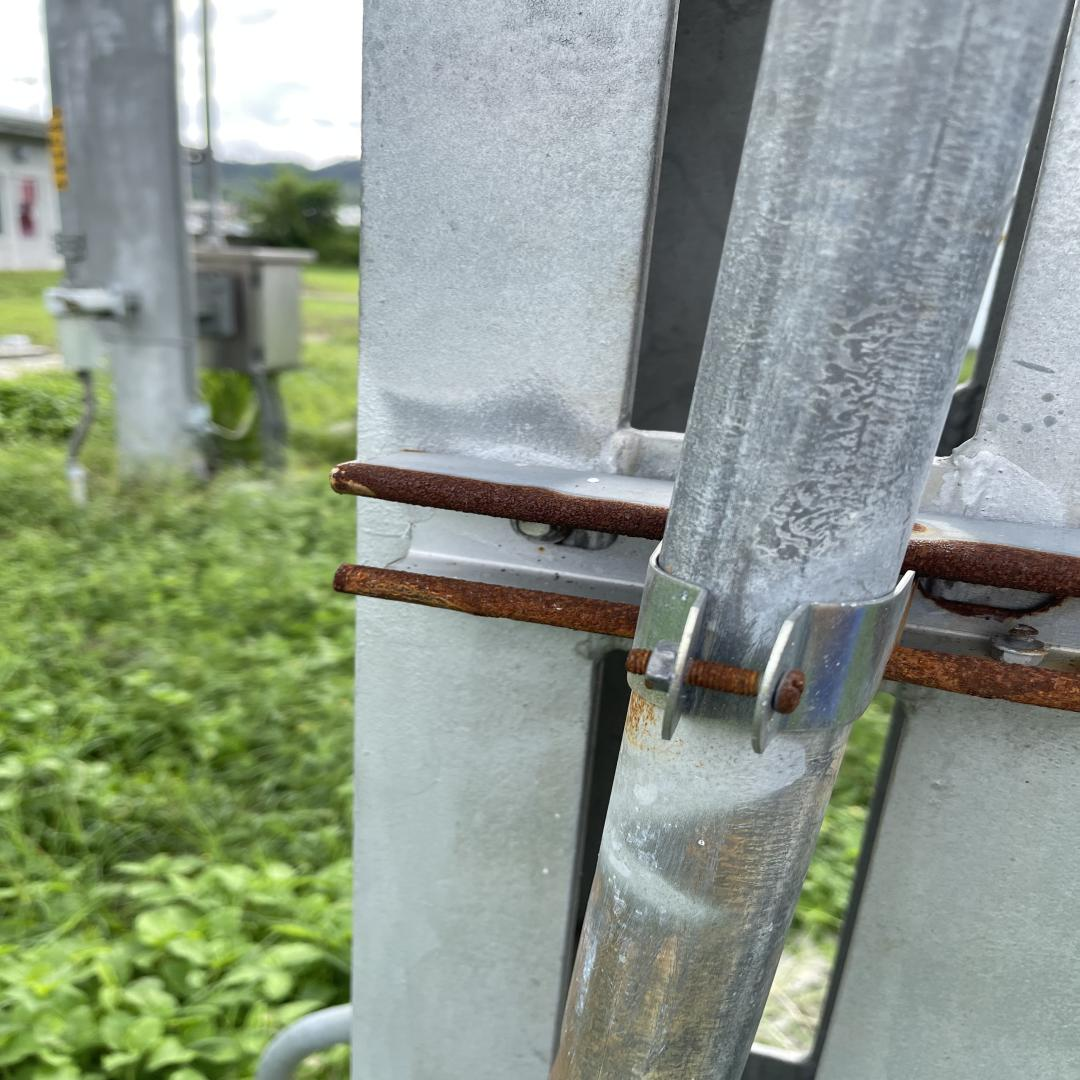Metal: (342, 0, 1080, 1080)
Metal corroido: (330, 461, 669, 541), (334, 564, 640, 638), (883, 646, 1080, 713), (900, 539, 1080, 598), (685, 659, 760, 697), (778, 669, 806, 713), (624, 649, 650, 675)
